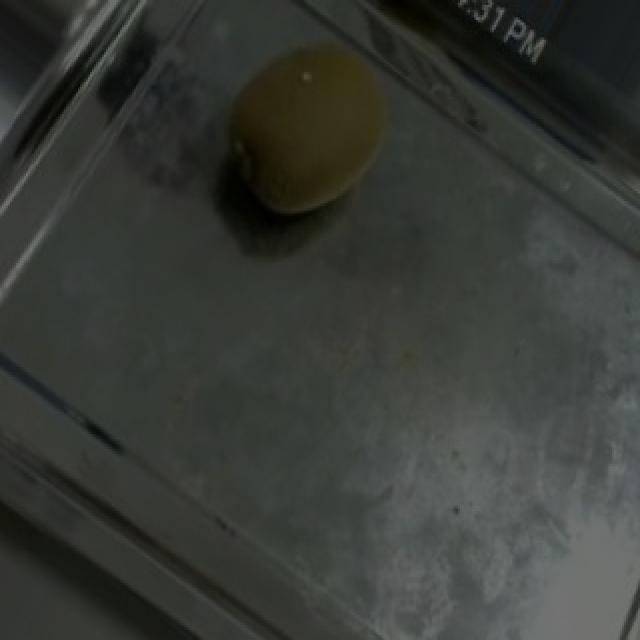Fruit: (182, 2, 436, 258)
